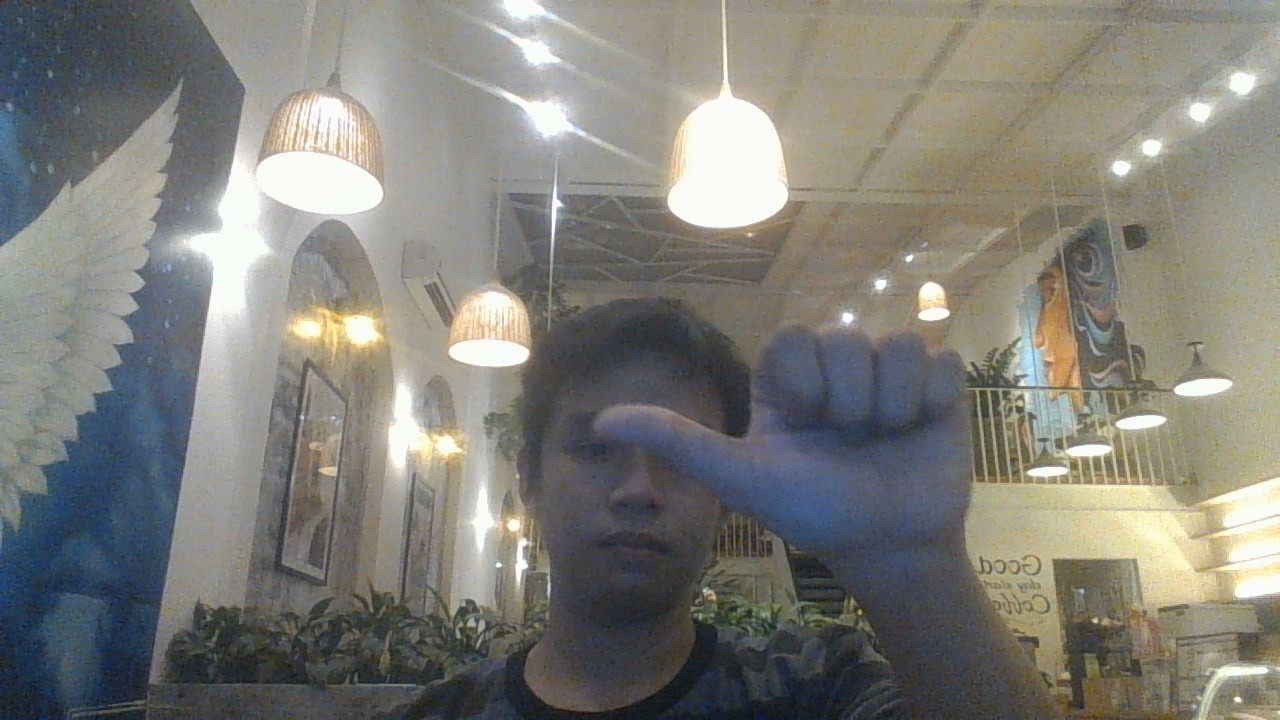back: (593, 322, 979, 553)
